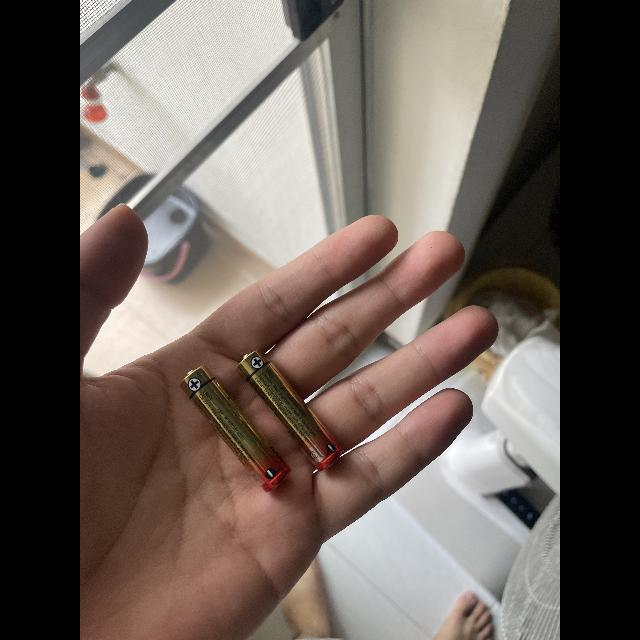battery: (233, 343, 352, 475), (178, 362, 294, 496)
